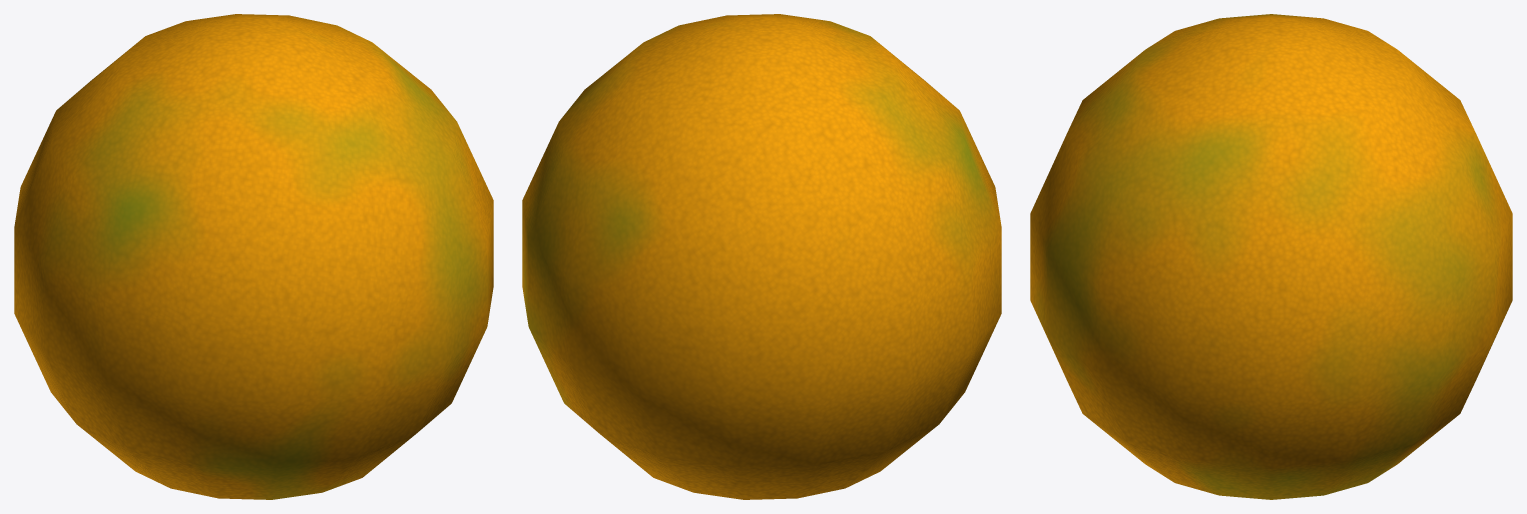
File: orange.glb
3 renders of one model, left to right at view 1: azimuth 30°, elevation 25°; view 2: azimuth 150°, elevation 25°; view 3: azimuth 270°, elevation 25°, orthographic.
Visible parts, largest first — view 1: Object_22; view 2: Object_22; view 3: Object_22.
Part boxes in pixels (x1,y1,x2,y2): Object_22: (14, 14, 493, 499); Object_22: (522, 14, 1001, 499); Object_22: (1030, 14, 1512, 499).
Bounding box in the file's own units: 1.96 × 2 × 1.96.
Materials: 1 (1 with a texture image).
